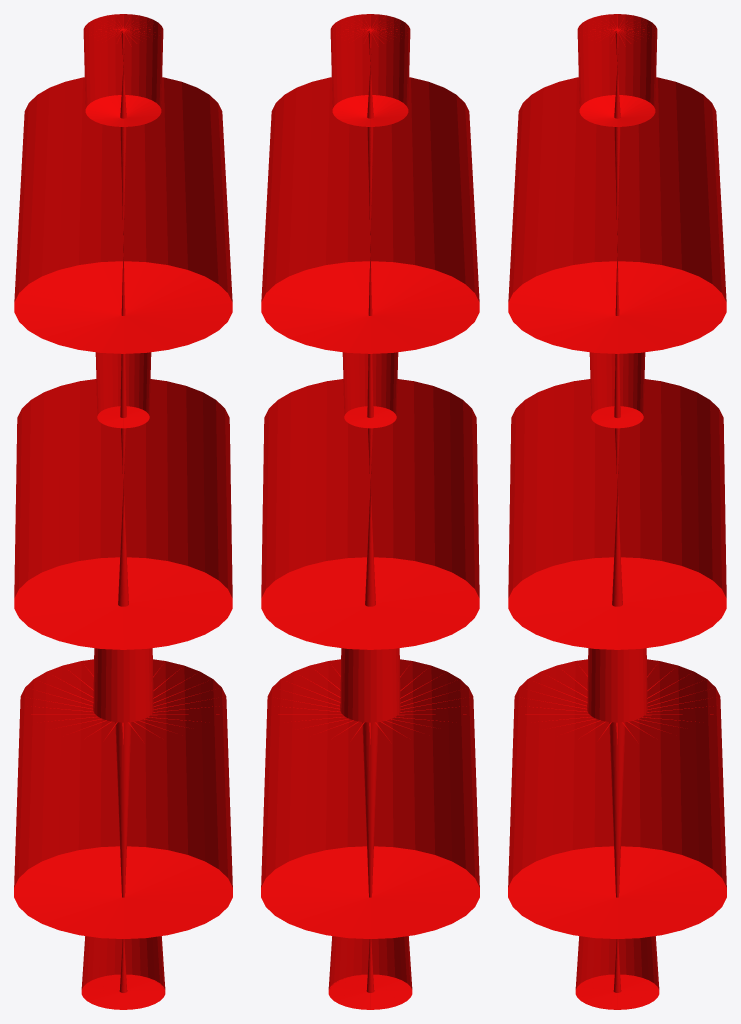
3 views of the same model, side by side, from view 1: azimuth 30°, elevation 25°; view 2: azimuth 150°, elevation 25°; view 3: azimuth 270°, elevation 25° (orthographic).
Visible parts, largest first — view 1: algeomath (1); view 2: algeomath (1); view 3: algeomath (1).
Boxes of the visible parts, x1=… form: algeomath (1): x1=14, y1=14, x2=232, y2=1009; algeomath (1): x1=261, y1=14, x2=479, y2=1009; algeomath (1): x1=508, y1=14, x2=726, y2=1009.
Bounding box in the file's own units: 0.0622 × 0.3 × 0.0618.
Materials: 1 (1 with a texture image).
